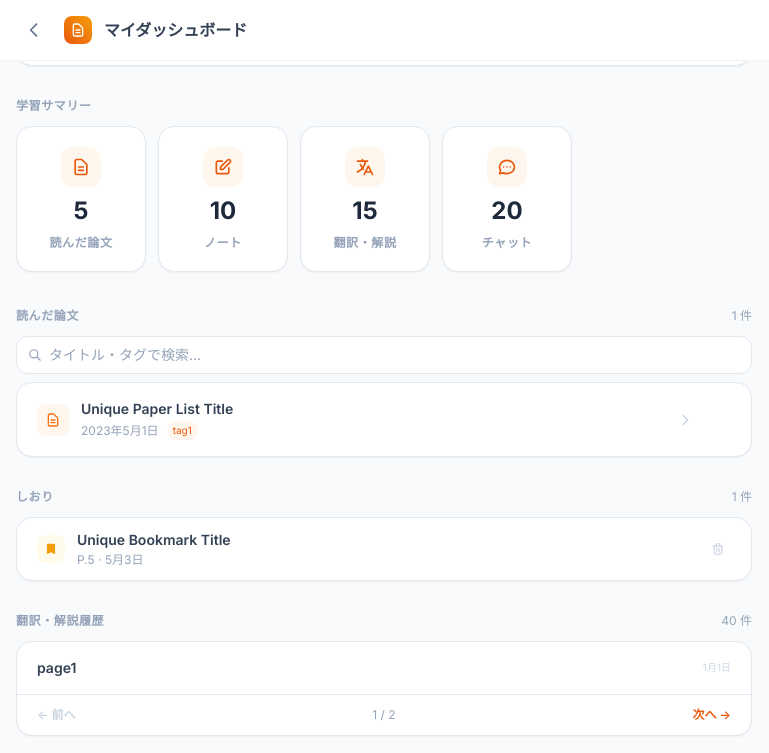
Test: Dashboard Page › handles translation pagination
(page scrolled)
Expected: the text "page1" is shown, [37,659,76,676]
Expected: the text "1 / 2" is shown, [372,707,396,723]
What coordinates should you click on to do the following:
click the button "次へ →"
I would click on:
 (712, 715)
Its box is [692,707,731,723].
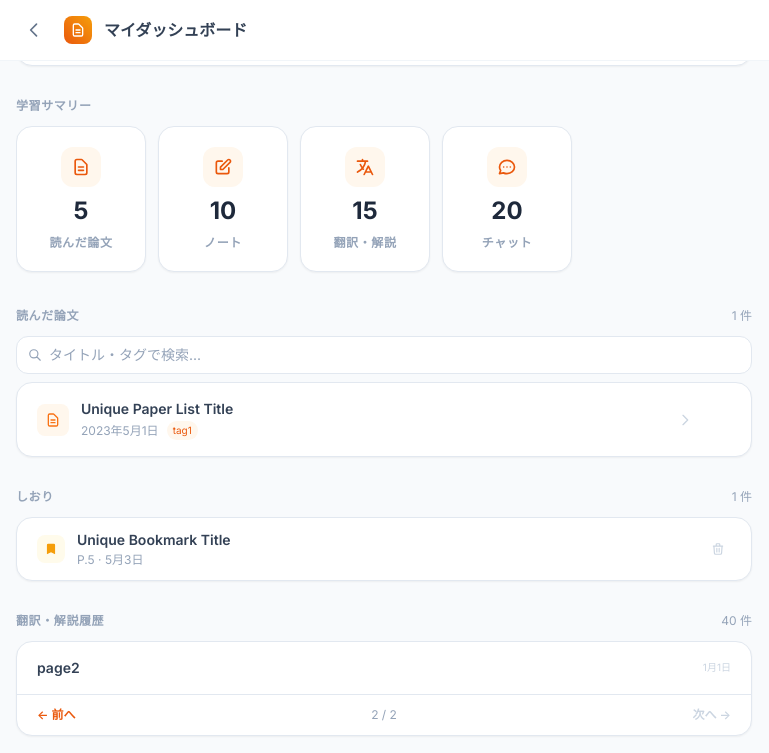
Result: the text "page2" is shown at [37,659,80,676]
Result: the text "2 / 2" is shown at [371,707,397,723]
